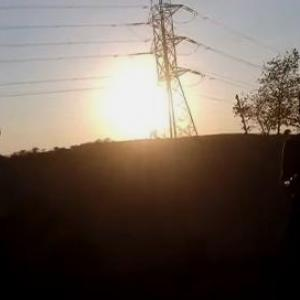follow: (273, 81, 300, 299)
